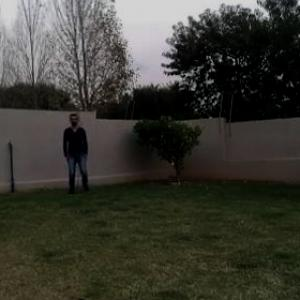follow: (65, 116, 85, 190)
